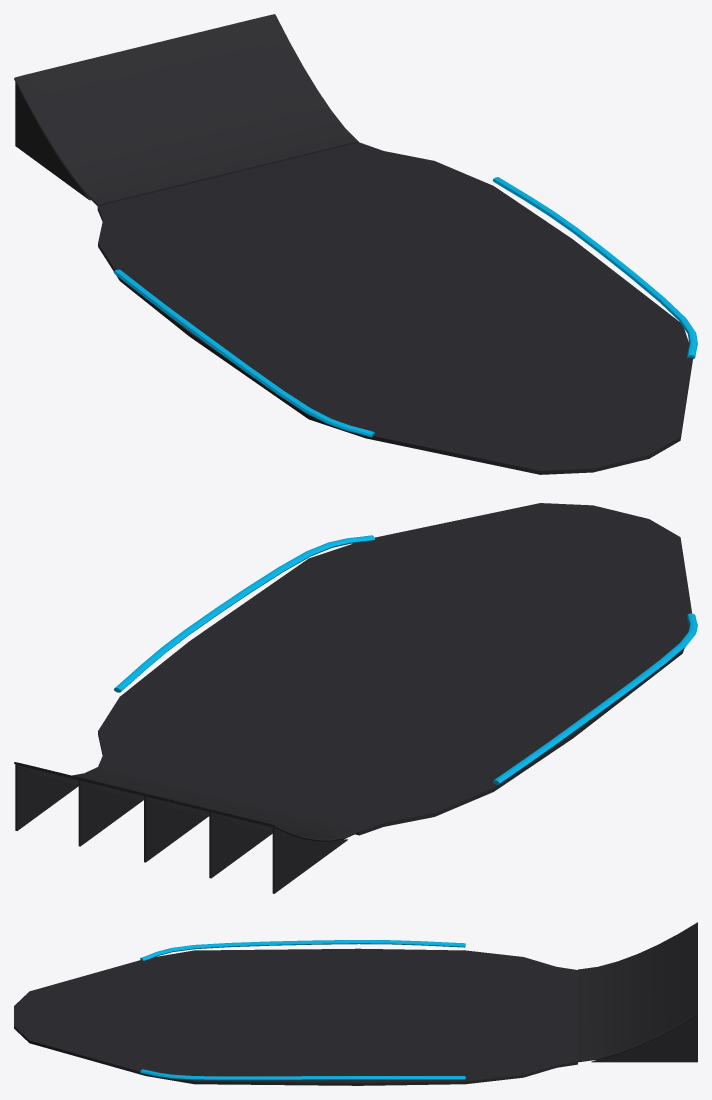
Rendered from standard.glb.
3 views of the same model, one above another, from view 1: azimuth 30°, elevation 25°; view 2: azimuth 150°, elevation 25°; view 3: azimuth 270°, elevation 25° (orthographic). The views are drawn at different scales.
Parts seen in each view (by area): view 1: Floor; view 2: Floor; view 3: Floor.
Boxes of the visible parts, x1=… form: Floor: x1=14, y1=14, x2=697, y2=474; Floor: x1=14, y1=503, x2=697, y2=893; Floor: x1=14, y1=922, x2=697, y2=1085.
Bounding box in the file's own units: 1.69 × 0.305 × 3.53.
